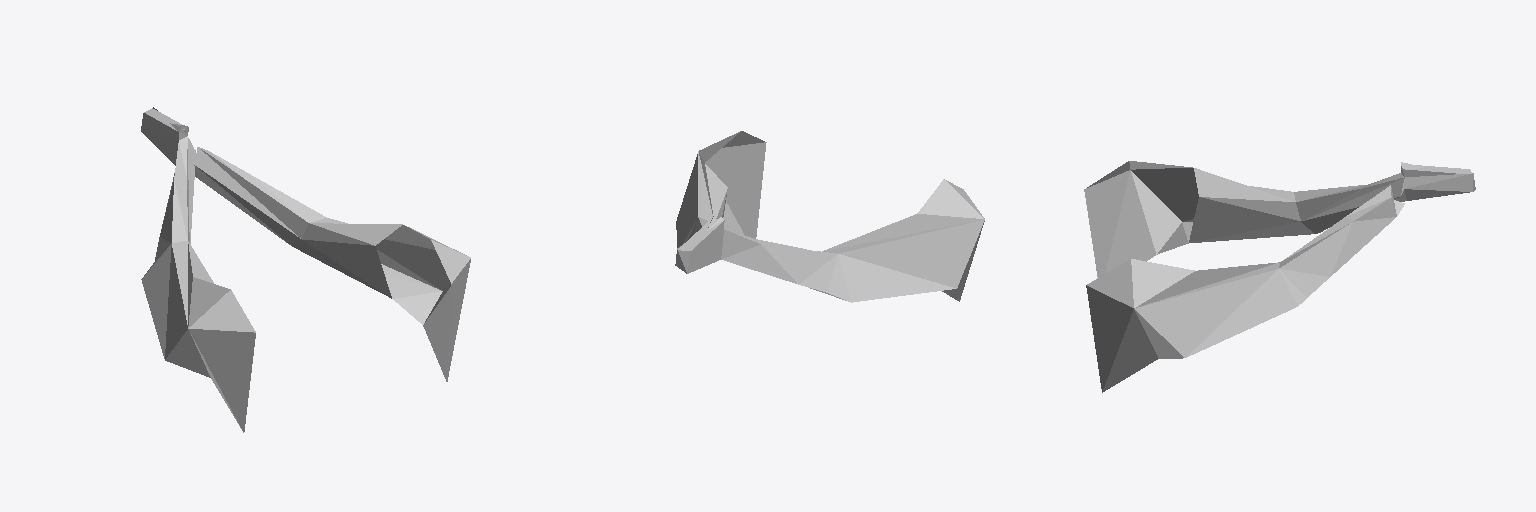
The model's file is prev_player_arms.obj.
3 renders of one model, left to right at view 1: azimuth 30°, elevation 25°; view 2: azimuth 150°, elevation 25°; view 3: azimuth 270°, elevation 25°, orthographic.
Visible parts, largest first — view 1: mesh_0; view 2: mesh_0; view 3: mesh_0.
Part boxes in pixels (x1,y1,x2,y2): mesh_0: (141, 107, 470, 432); mesh_0: (675, 131, 984, 302); mesh_0: (1084, 161, 1475, 392).
Bounding box in the file's own units: 1 × 0.5879 × 1.2.